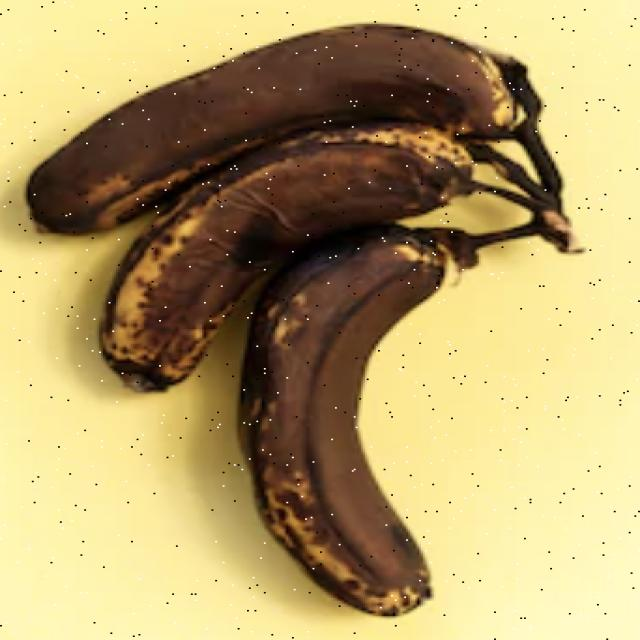banana: (73, 173, 599, 573)
